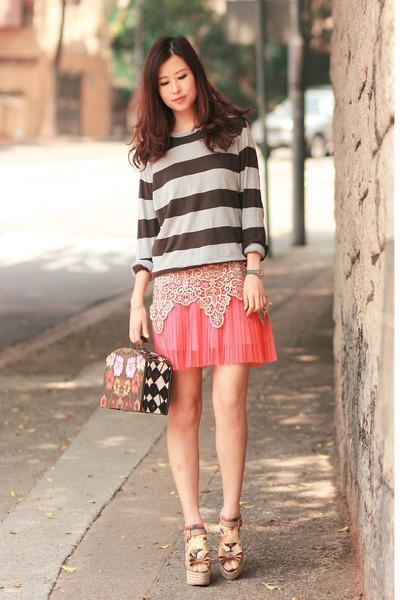bag: (100, 329, 178, 421)
jacket: (127, 140, 288, 275)
shoe: (185, 549, 208, 583)
skirt: (150, 262, 275, 370)
